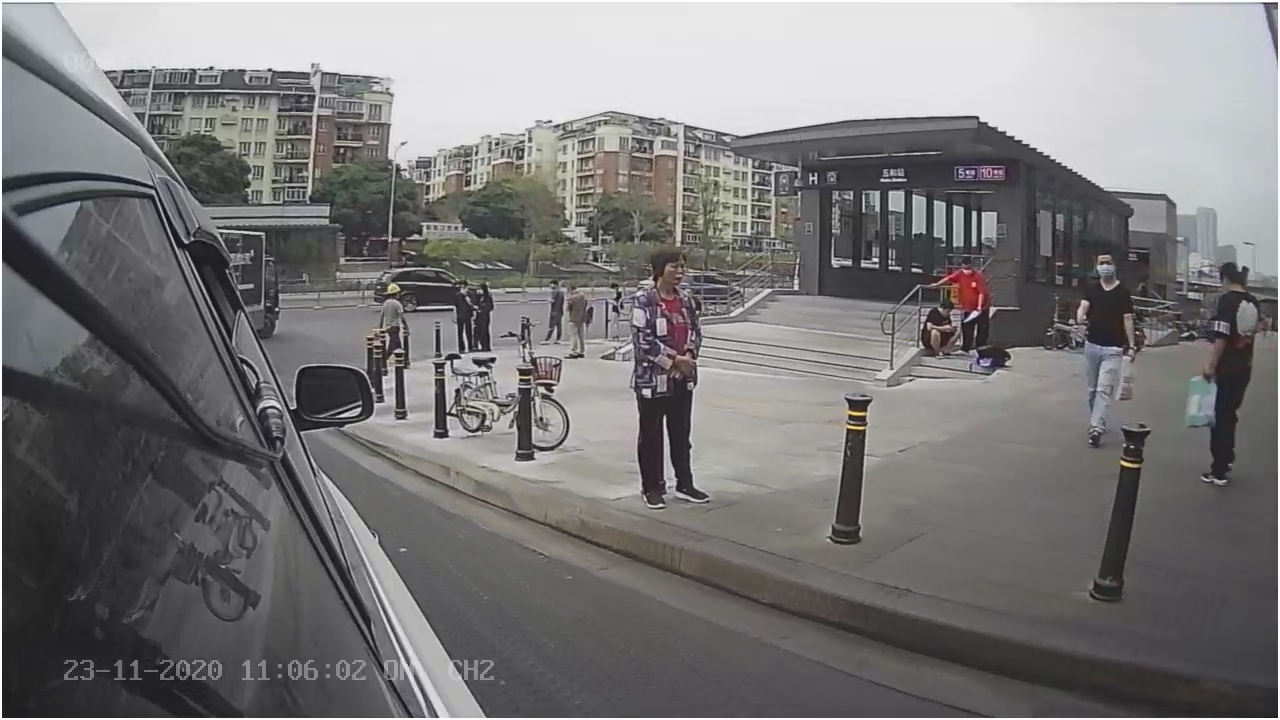person: (620, 247, 717, 515)
